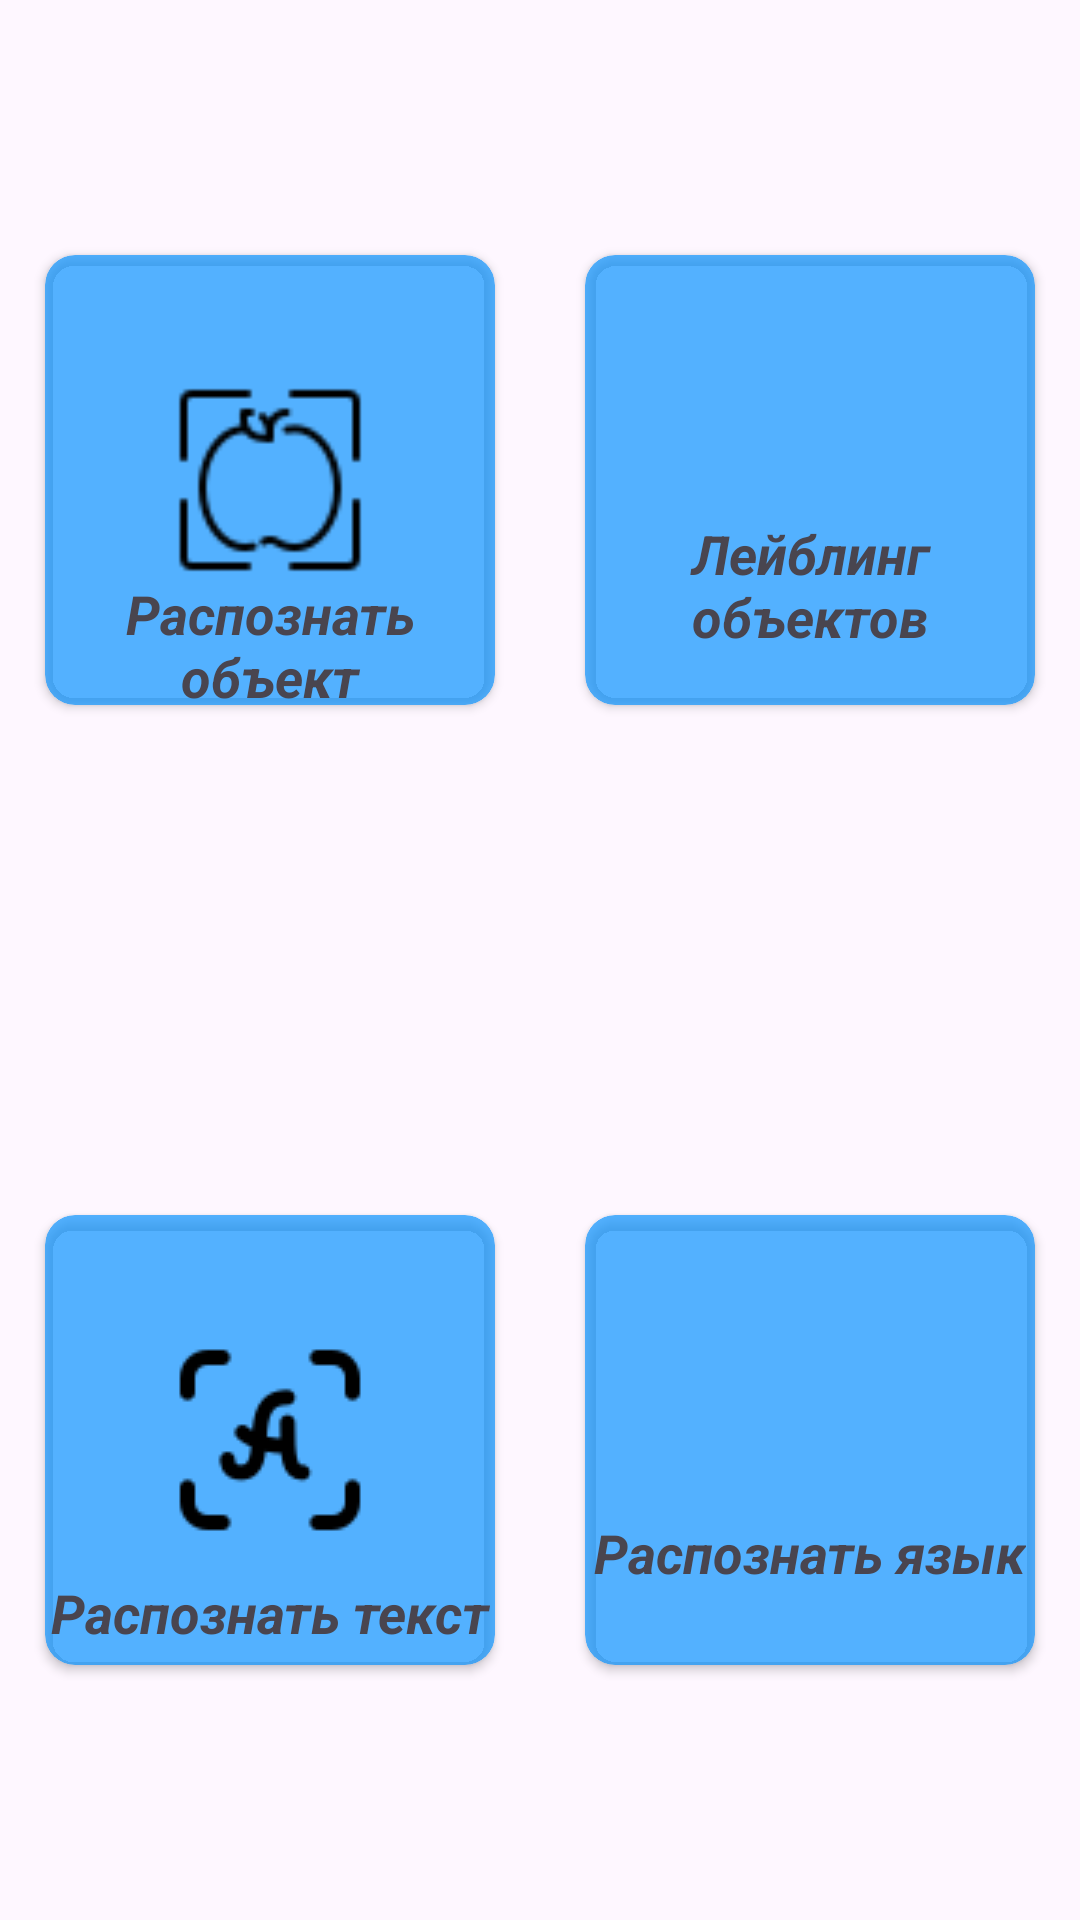

Point at icon controls on the screen. Image size 1080px×1920px, points as (x,y).
textrec: (270,1440)
